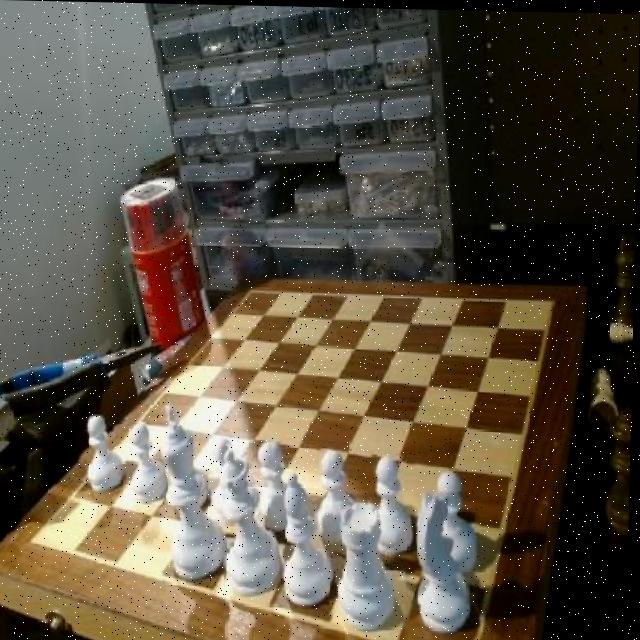black-rook: (275, 468, 332, 611)
white-bishop: (164, 403, 219, 584)
white-king: (406, 489, 484, 638)
white-knight: (428, 472, 482, 577), (368, 451, 417, 562), (317, 444, 364, 550), (259, 438, 303, 531), (125, 419, 170, 506), (81, 415, 130, 485), (212, 441, 252, 518)
white-pawn: (220, 439, 279, 596)
white-queen: (331, 503, 398, 621)
